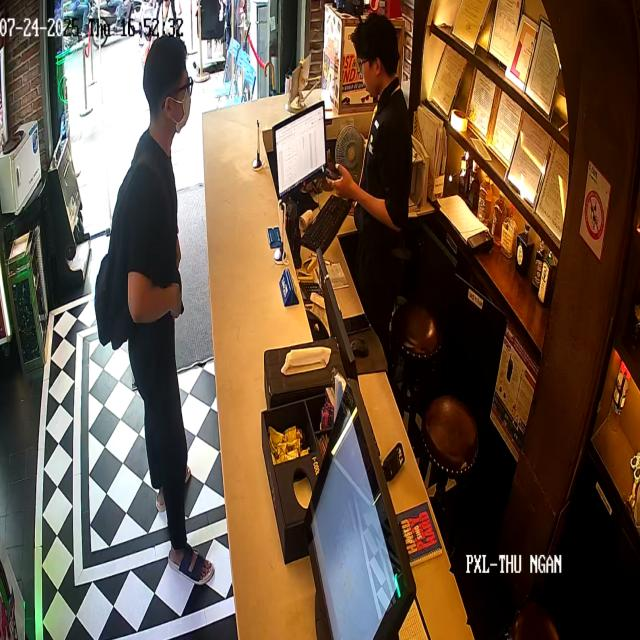khach: (100, 40, 208, 581)
nhan vien: (341, 0, 412, 297)
